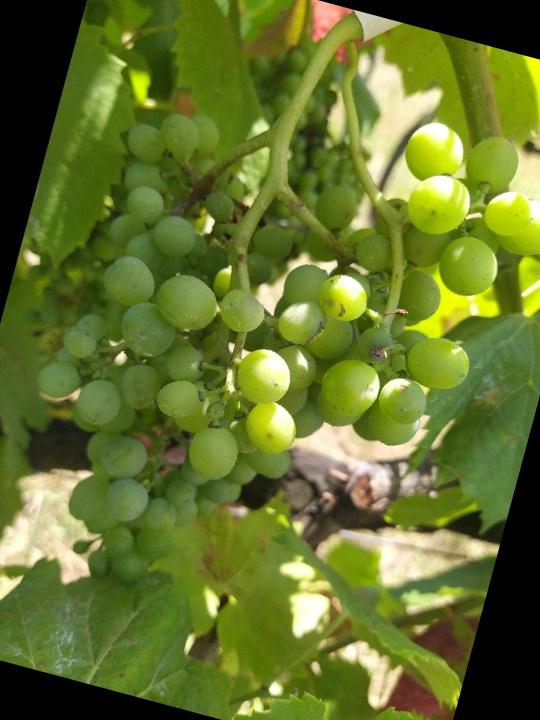grape: (0, 28, 540, 676)
